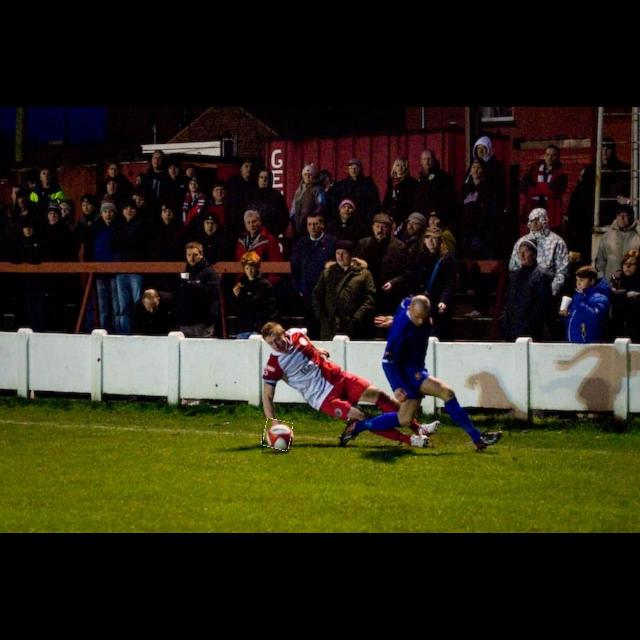Football: (262, 420, 292, 450)
